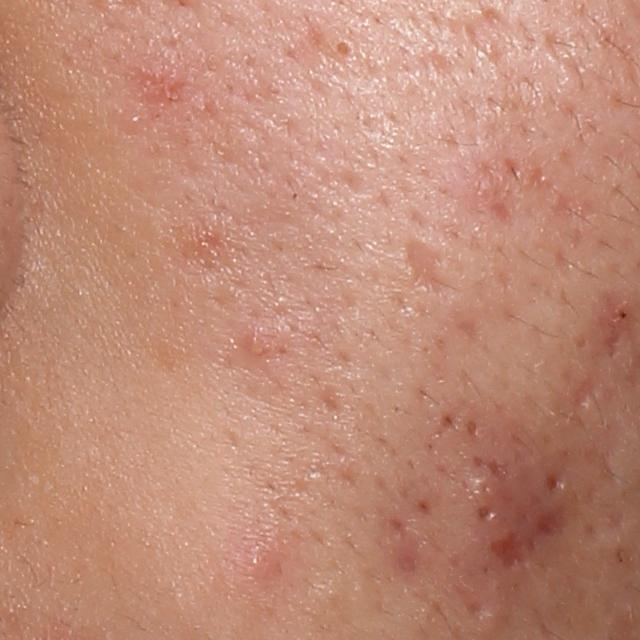atrophic_scar: (428, 10, 531, 86), (382, 30, 460, 98), (398, 236, 460, 303), (488, 527, 531, 568), (532, 505, 571, 539), (316, 384, 346, 422), (570, 370, 594, 409), (485, 457, 516, 483), (545, 470, 565, 493)
comedo: (477, 498, 499, 521), (466, 414, 483, 440)
papule: (237, 531, 293, 589)
